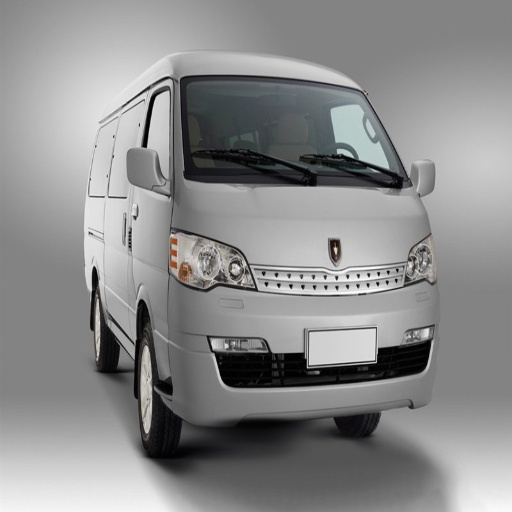front_bumper: (154, 261, 439, 421)
front_left_light: (376, 238, 434, 285)
front_right_door: (109, 81, 179, 328)
front_right_light: (170, 232, 253, 289)
hood: (180, 181, 428, 271)
